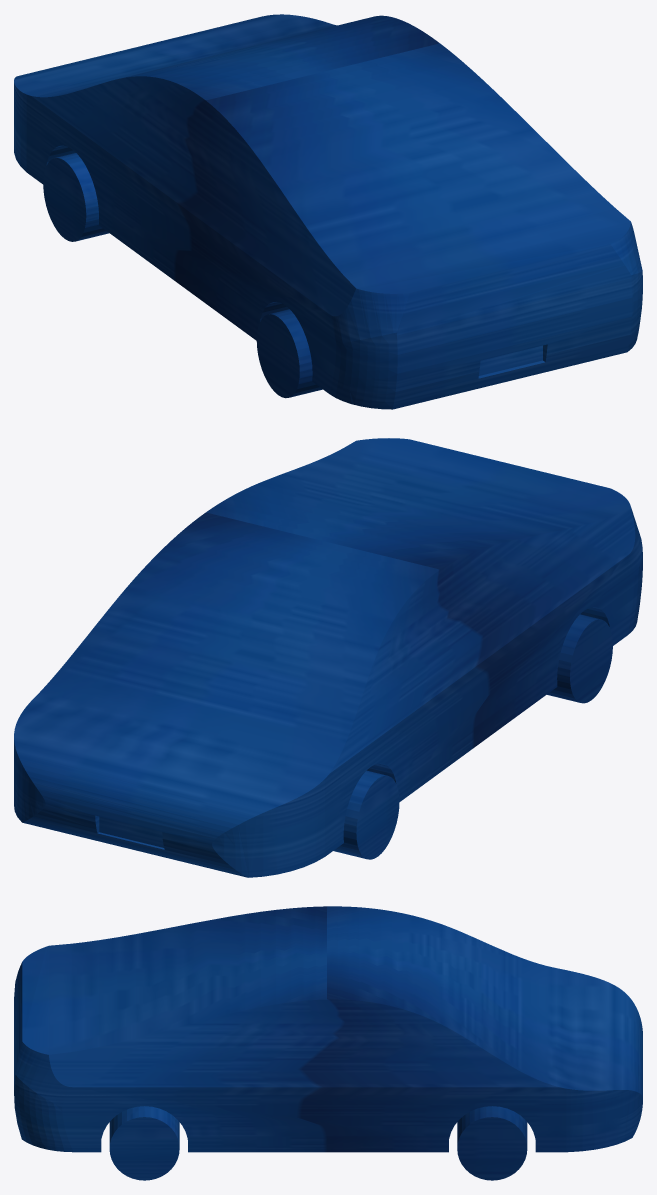
Rendered from carsu.obj.
3 views of the same model, one above another, from view 1: azimuth 30°, elevation 25°; view 2: azimuth 150°, elevation 25°; view 3: azimuth 270°, elevation 25° (orthographic). The views are drawn at different scales.
Visible parts, largest first — view 1: carsu:Mesh; view 2: carsu:Mesh; view 3: carsu:Mesh.
Boxes of the visible parts, x1,y1,x2,y2 form: carsu:Mesh: (14,14,642,409); carsu:Mesh: (14,438,642,877); carsu:Mesh: (14,906,642,1180).
Size of the model in its own units: 84 by 52.06 by 179.
